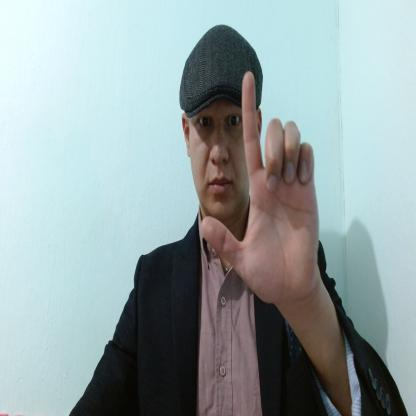L: (200, 68, 318, 302)
